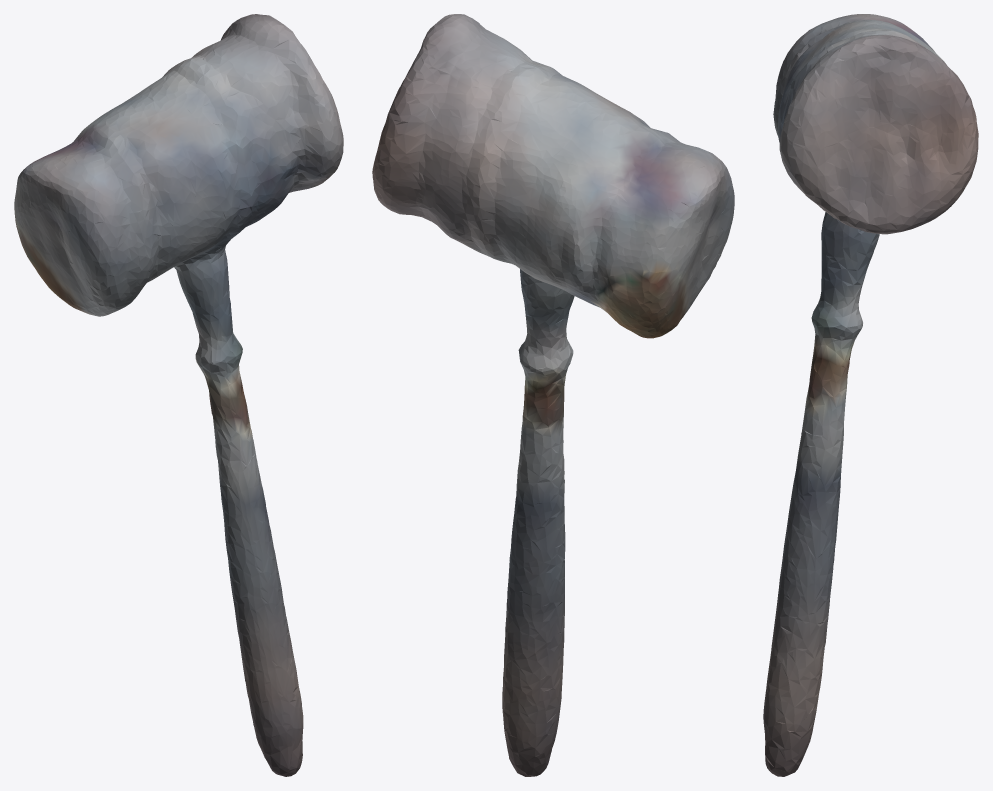
Rendered from martelo.glb.
3 views of the same model, side by side, from view 1: azimuth 30°, elevation 25°; view 2: azimuth 150°, elevation 25°; view 3: azimuth 270°, elevation 25° (orthographic). The views are drawn at different scales.
Parts seen in each view (by area): view 1: geometry_0; view 2: geometry_0; view 3: geometry_0.
Boxes of the visible parts, left/top/right/bottom form: geometry_0: left=14, top=14, right=343, bottom=776; geometry_0: left=372, top=14, right=734, bottom=776; geometry_0: left=763, top=14, right=978, bottom=776.
Size of the model in its own units: 0.4146 by 1 by 0.259.
